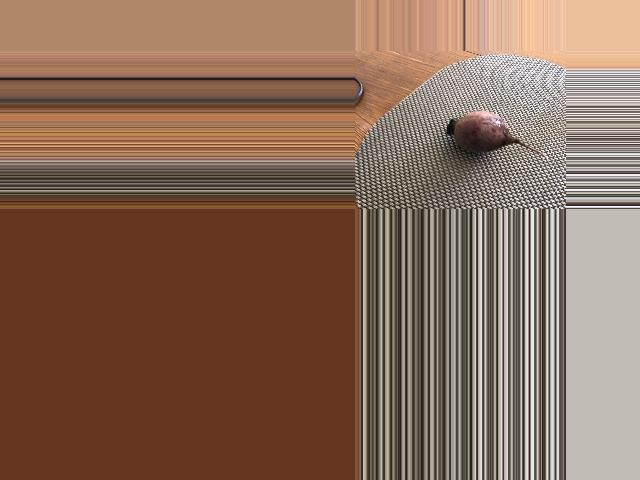beet: (445, 111, 548, 162)
